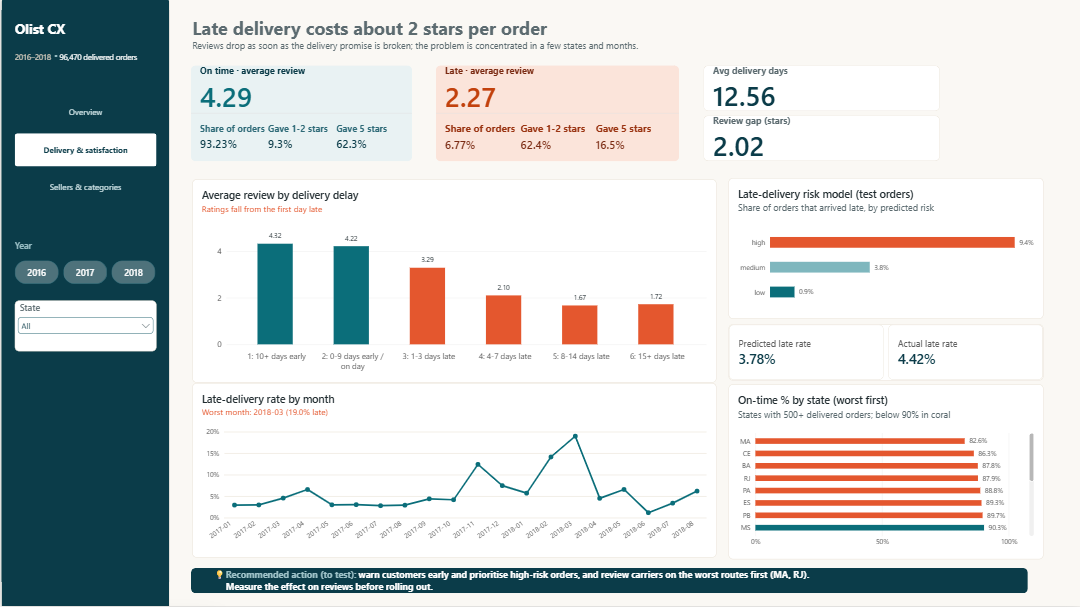

Layout of this report page (visuals, bound fields, positions):
{"tool":"powerbi","page":{"name":"Delivery & satisfaction","canvas":[1920,1080],"ordinal":1},"visuals":[{"type":"shape","box":[0,0,300,1088],"z":0},{"type":"textbox","box":[24,38,252,105],"z":1000},{"type":"pageNavigator","box":[24,173,252,195],"z":2000},{"type":"advancedSlicerVisual","title":"Year","fields":{"Values":["dim_date.year"]},"box":[24,428,252,80],"z":3000},{"type":"slicer","fields":{"Values":["dim_customer.state"]},"box":[24,538,252,90],"z":4000},{"type":"textbox","box":[340,30,1540,90],"z":5000},{"type":"cardVisual","fields":{"Data":["_Measures.Avg Review On Time"]},"box":[338.8,120.4,393.6,170.2],"z":6000},{"type":"cardVisual","fields":{"Data":["_Measures.Avg Review Late"]},"box":[773.5,120.4,432.5,170],"z":7000},{"type":"cardVisual","fields":{"Data":["_Measures.Avg Delivery Days","_Measures.Review Gap"]},"box":[1249,120.4,420,170],"z":8000},{"type":"clusteredColumnChart","title":"Average review by delivery delay","fields":{"Category":["fact_orders.delay_bucket"],"Y":["_Measures.Avg Review"]},"box":[340.4,321.3,931.9,361.7],"z":9000},{"type":"clusteredBarChart","title":"Late-delivery risk model (test orders)","fields":{"Category":["fact_orders.risk_band"],"Y":["_Measures.Late Rate %"]},"box":[1293.9,320.4,560,250],"z":10000},{"type":"cardVisual","fields":{"Data":["_Measures.Avg Late Risk (test)","_Measures.Late Rate (test)"]},"box":[1293.9,579.6,560,100],"z":11000},{"type":"lineChart","title":"Late-delivery rate by month","fields":{"Category":["dim_date.year_month"],"Y":["_Measures.Late Rate %"]},"box":[340.4,685,931.9,310.6],"z":12000},{"type":"clusteredBarChart","title":"On-time % by state (worst first)","fields":{"Category":["dim_customer.state"],"Y":["_Measures.On-time %"]},"box":[1293.9,685.7,560,311],"z":13000},{"type":"shape","box":[338.8,1014.3,1487.8,44.9],"z":14000},{"type":"textbox","box":[357,1014.3,1471.4,44.9],"z":15000}]}

Visuals, with their boxes on the page's 1920x1080 design canvas (x1, y1, x2, y2). These are canvas units, not pixel positions in the 1080x607 screenshot, which may show the page scaled, cropped or inside an application window:
shape: (x1=0, y1=0, x2=300, y2=1088)
textbox: (x1=24, y1=38, x2=276, y2=143)
pageNavigator: (x1=24, y1=173, x2=276, y2=368)
"Year" advancedSlicerVisual: (x1=24, y1=428, x2=276, y2=508)
slicer - dim_customer.state: (x1=24, y1=538, x2=276, y2=628)
textbox: (x1=340, y1=30, x2=1880, y2=120)
cardVisual - _Measures.Avg Review On Time: (x1=339, y1=120, x2=732, y2=291)
cardVisual - _Measures.Avg Review Late: (x1=774, y1=120, x2=1206, y2=290)
cardVisual - _Measures.Avg Delivery Days x _Measures.Review Gap: (x1=1249, y1=120, x2=1669, y2=290)
"Average review by delivery delay" clusteredColumnChart: (x1=340, y1=321, x2=1272, y2=683)
"Late-delivery risk model (test orders)" clusteredBarChart: (x1=1294, y1=320, x2=1854, y2=570)
cardVisual - _Measures.Avg Late Risk (test) x _Measures.Late Rate (test): (x1=1294, y1=580, x2=1854, y2=680)
"Late-delivery rate by month" lineChart: (x1=340, y1=685, x2=1272, y2=996)
"On-time % by state (worst first)" clusteredBarChart: (x1=1294, y1=686, x2=1854, y2=997)
shape: (x1=339, y1=1014, x2=1827, y2=1059)
textbox: (x1=357, y1=1014, x2=1828, y2=1059)
